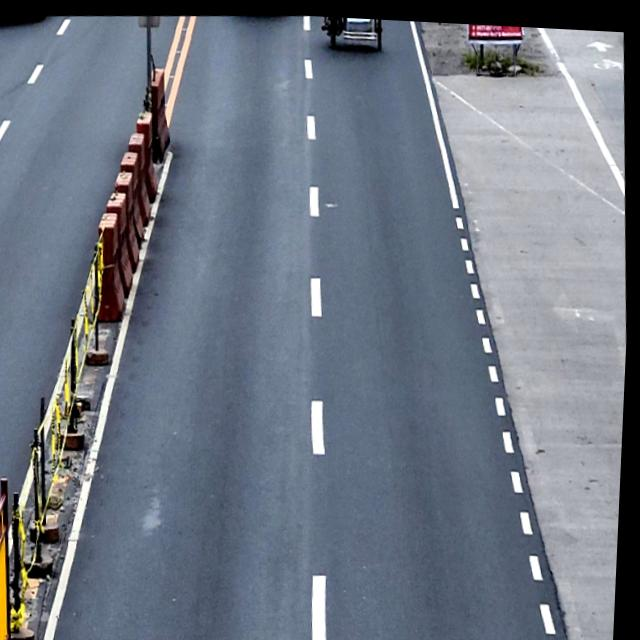Tricycle: (320, 13, 383, 51)
